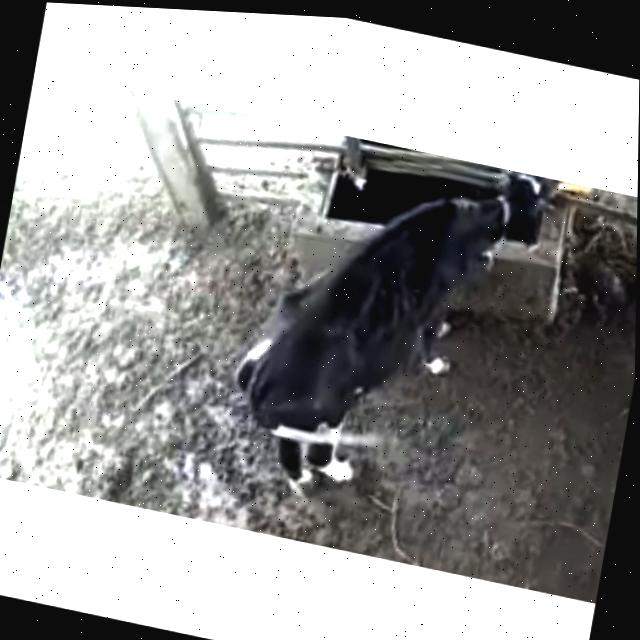drink: (427, 155, 567, 274)
